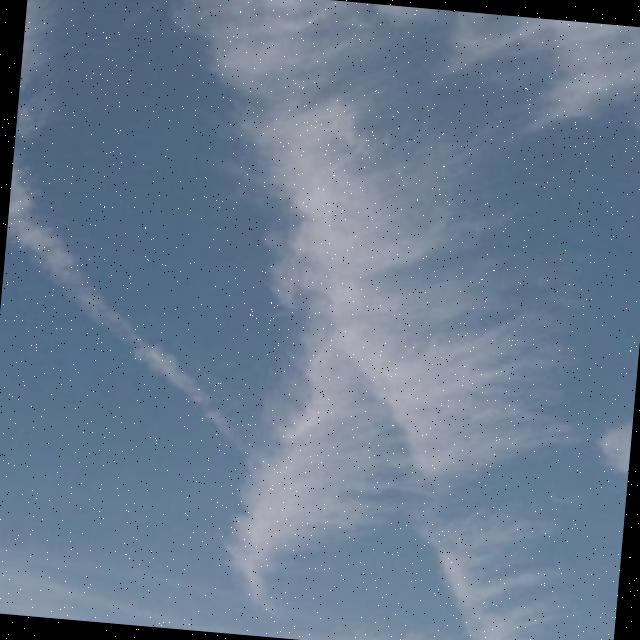Ci: (116, 1, 629, 639)
